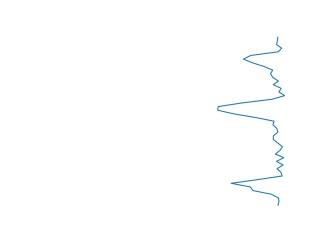underwaterNaturalLevee: (214, 37, 289, 207)
